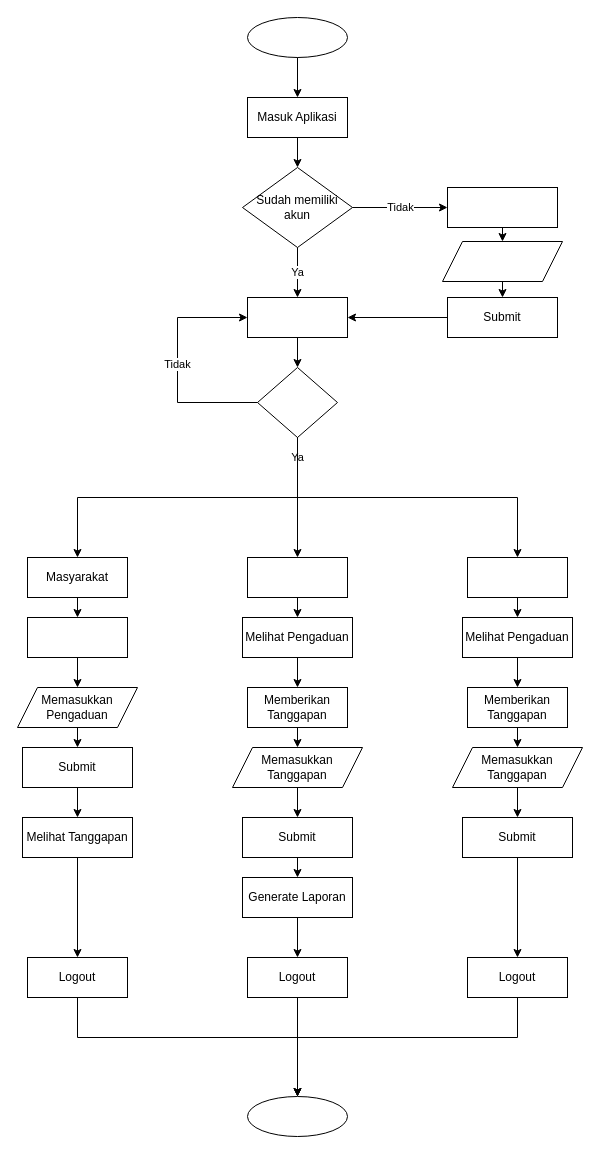
Image size: 600x1154. Some labels were removed from this diagram. The centre of each missing label's shape, as x and y in pixels:
Admin: the point at 297,577
Data Benar: the point at 297,402
Input Data: the point at 502,261
Login: the point at 297,317
Melaporkan pengaduan: the point at 77,637
Mulai: the point at 297,37
Petugas: the point at 517,577
Register: the point at 502,207
Selesai: the point at 297,1116
